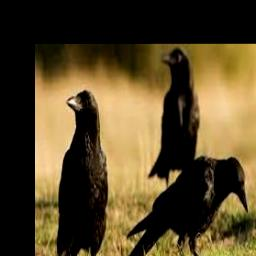Crow: (127, 155, 249, 256), (56, 89, 108, 256), (148, 48, 199, 191)
